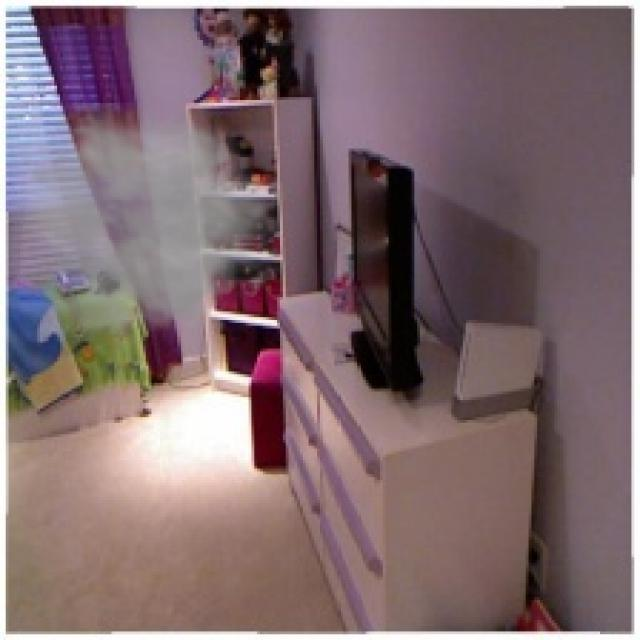Smoke: (12, 103, 294, 354)
